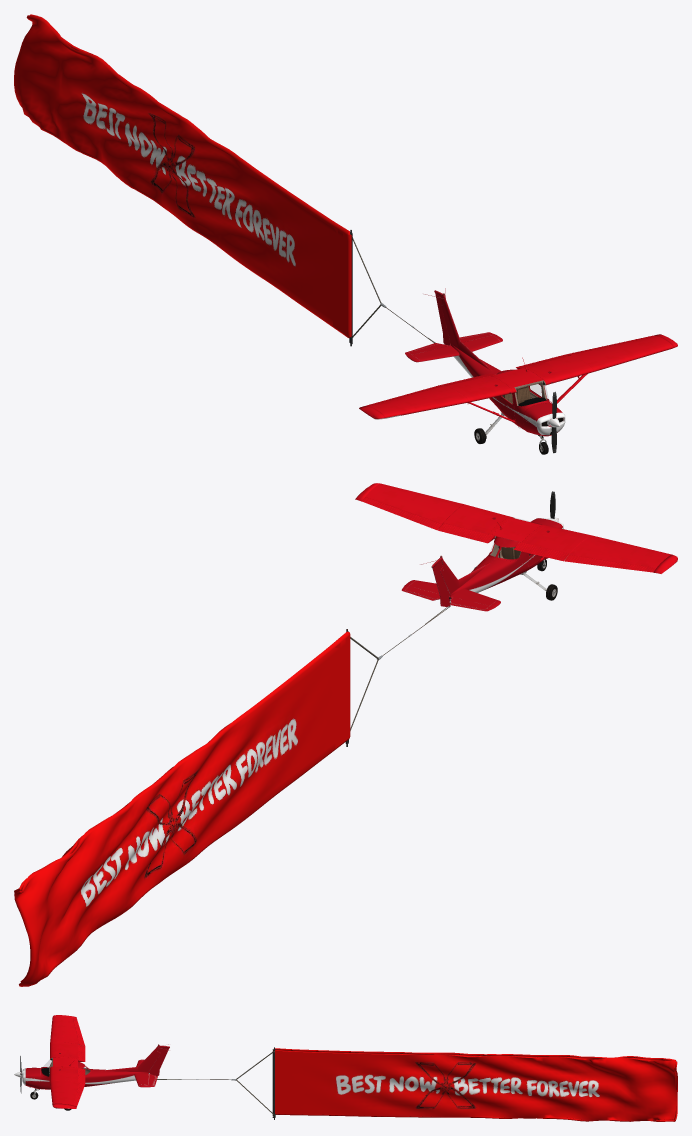
The model's file is TcccAirplane-optimized.glb.
3 views of the same model, one above another, from view 1: azimuth 30°, elevation 25°; view 2: azimuth 150°, elevation 25°; view 3: azimuth 270°, elevation 25° (orthographic). The views are drawn at different scales.
Parts seen in each view (by area): view 1: Banner_Small, Flap_Bottom_L, Cowling_Top, Elevator; view 2: Banner_Small, Flap_Bottom_L, Cowling_Top, Elevator; view 3: Banner_Small, Flap_Bottom_L, Cowling_Top, Elevator, Rudder, Plank_Small.
Part boxes in pixels (box(x1,y1,x2,y2)): Banner_Small: box(14, 14, 351, 338); Flap_Bottom_L: box(359, 334, 677, 419); Cowling_Top: box(441, 299, 563, 436); Elevator: box(405, 332, 502, 362); Banner_Small: box(14, 631, 350, 986); Flap_Bottom_L: box(355, 483, 677, 573); Cowling_Top: box(440, 518, 562, 604); Elevator: box(401, 580, 500, 611); Banner_Small: box(273, 1048, 677, 1121); Flap_Bottom_L: box(50, 1015, 85, 1108); Cowling_Top: box(25, 1048, 160, 1089); Elevator: box(134, 1059, 157, 1087); Rudder: box(149, 1044, 169, 1075); Plank_Small: box(272, 1047, 275, 1119).
Size of the model in its own units: 188 by 74.26 by 570.
Materials: 17 (11 with a texture image).
